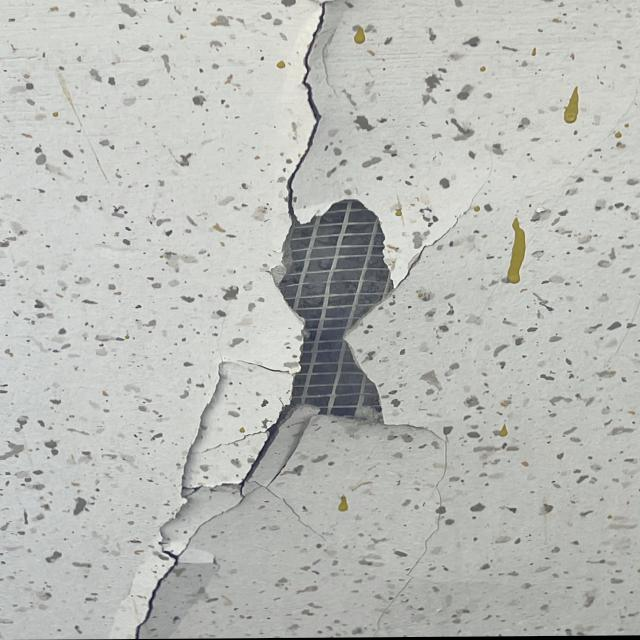spalling: (99, 4, 512, 636)
